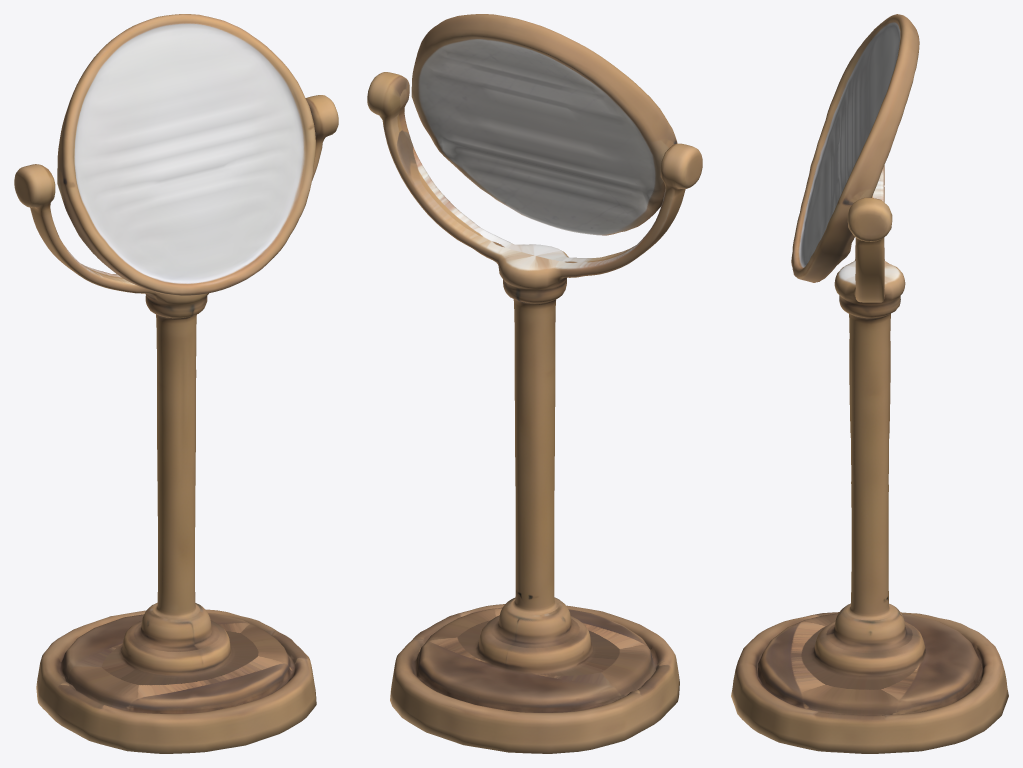
File: base_basic_pbr.fbx
3 renders of one model, left to right at view 1: azimuth 30°, elevation 25°; view 2: azimuth 150°, elevation 25°; view 3: azimuth 270°, elevation 25°, orthographic. The views are drawn at different scales.
Visible parts, largest first — view 1: model; view 2: model; view 3: model.
Part boxes in pixels (<box>): model: <box>14,14,338,753</box>; model: <box>367,14,702,753</box>; model: <box>731,14,1008,753</box>.
Bounding box in the file's own units: 84.68 × 175 × 65.82.
1 material, 1 textured.
